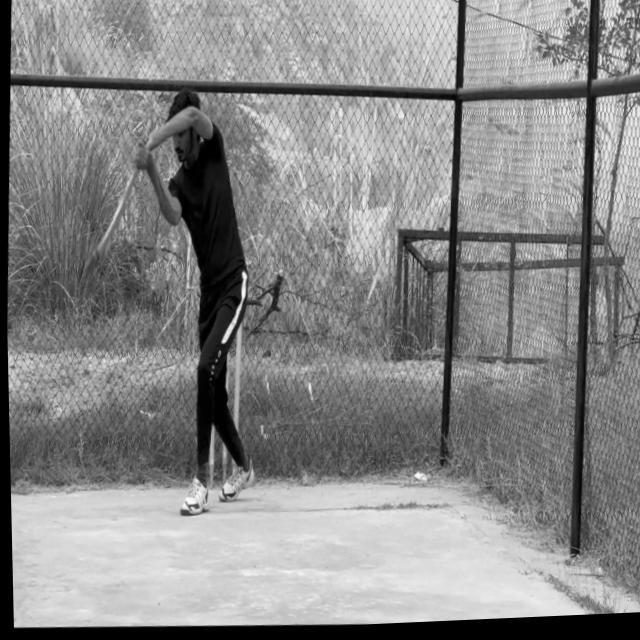Batsman: (131, 64, 278, 527)
